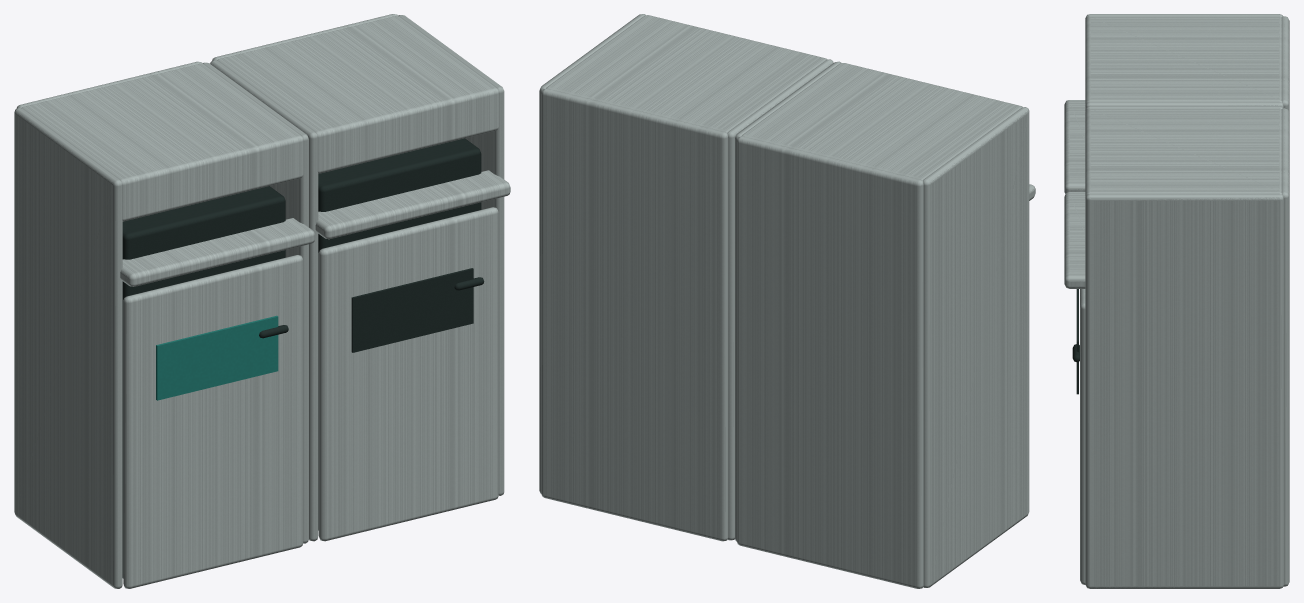
File: detail-bin-double-0.glb
3 renders of one model, left to right at view 1: azimuth 30°, elevation 25°; view 2: azimuth 150°, elevation 25°; view 3: azimuth 270°, elevation 25°, orthographic. The views are drawn at different scales.
Visible parts, largest first — view 1: door_panel (×2), side_shell (×4), hood (×2), bin_inner_bag (×2), opening_lip (×2), label_other, label_recycle; view 2: back_shell (×2), side_shell (×4), hood (×2); view 3: side_shell (×4), hood (×2), opening_lip (×2), back_shell (×2), door_panel.
Boxes of the visible parts, x1,y1,x2,y2 form: door_panel (×2): (123, 207, 498, 588); side_shell (×4): (14, 15, 504, 588); hood (×2): (21, 16, 498, 221); bin_inner_bag (×2): (122, 138, 481, 578); opening_lip (×2): (120, 170, 510, 286); label_other: (351, 268, 473, 352); label_recycle: (156, 315, 278, 400); back_shell (×2): (541, 88, 923, 588); side_shell (×4): (539, 14, 1029, 587); hood (×2): (546, 15, 1022, 180); side_shell (×4): (1085, 14, 1284, 588); hood (×2): (1085, 16, 1281, 197); opening_lip (×2): (1064, 100, 1085, 288); back_shell (×2): (1281, 16, 1289, 586); door_panel: (1080, 289, 1085, 584).
Size of the model in its own units: 1.05 by 1.05 by 0.5425.
3 materials, 3 textured.
